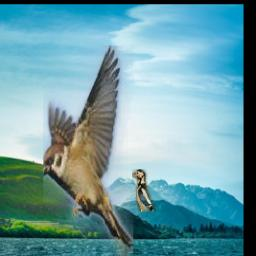Sparrow: (43, 47, 133, 256)
Woodpecker: (132, 169, 155, 212)
